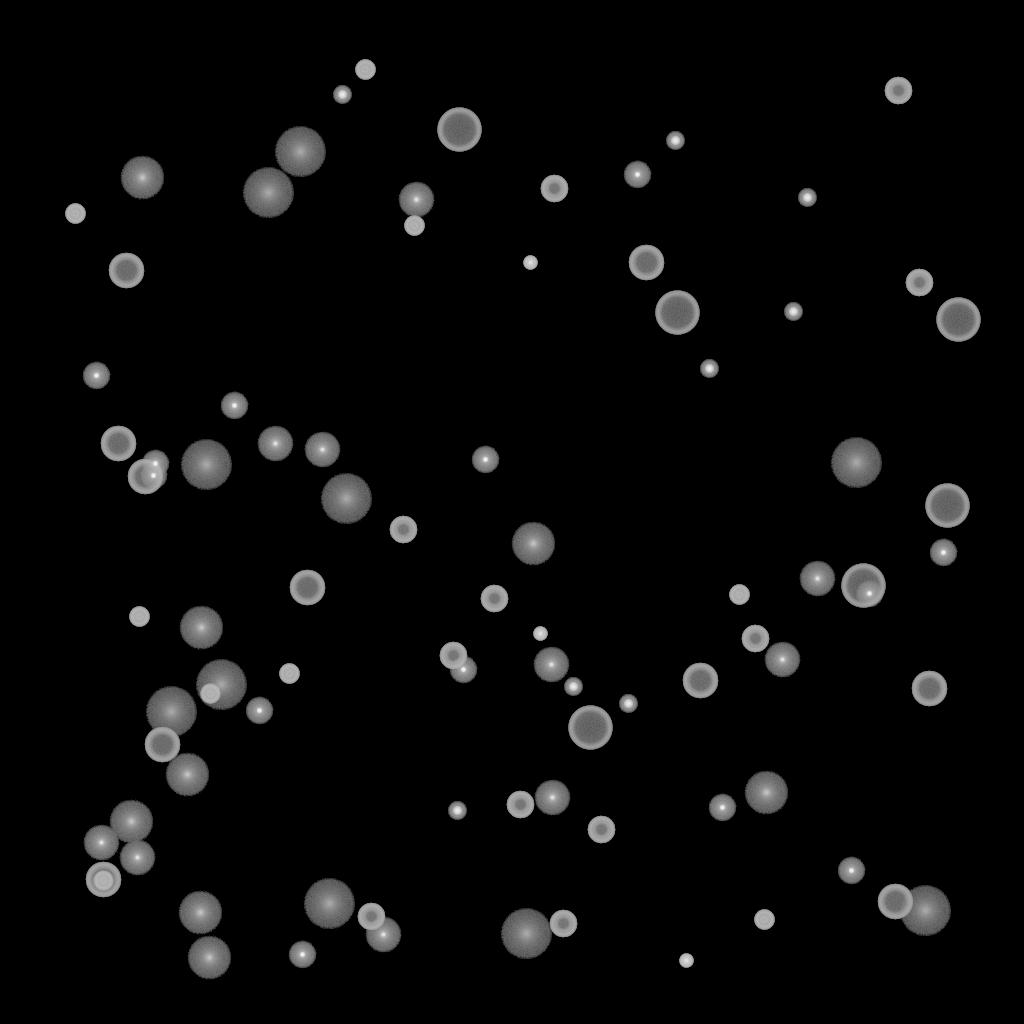depth:-10: (82, 362, 110, 390), (141, 450, 169, 478), (708, 794, 736, 822), (471, 446, 499, 474), (139, 462, 167, 490), (929, 539, 957, 567), (288, 941, 316, 969), (855, 580, 883, 608), (449, 656, 477, 684), (245, 697, 273, 725), (220, 392, 248, 420), (623, 161, 651, 189), (837, 857, 865, 885)
depth:-20: (666, 132, 684, 150), (564, 678, 582, 696), (448, 802, 466, 820), (798, 189, 816, 207), (619, 695, 637, 713), (700, 360, 718, 378), (333, 86, 351, 104), (784, 303, 802, 321)
depth:-30: (523, 256, 537, 270), (679, 954, 693, 968), (533, 627, 547, 641)
depth:-40: (65, 204, 85, 224), (279, 664, 299, 684), (404, 216, 424, 236), (93, 871, 113, 891), (729, 585, 749, 605), (355, 60, 375, 80), (129, 607, 149, 627), (754, 910, 774, 930), (200, 684, 220, 704)
depth:-50: (506, 791, 534, 819), (439, 642, 467, 670), (389, 516, 417, 544), (357, 903, 385, 931), (741, 625, 769, 653), (905, 269, 933, 297), (480, 585, 508, 613), (549, 910, 577, 938), (540, 175, 568, 203), (587, 816, 615, 844), (884, 77, 912, 105)
depth:-60: (682, 663, 718, 699), (85, 862, 121, 898), (144, 727, 180, 763), (289, 570, 325, 606), (911, 671, 947, 707), (628, 245, 664, 281), (100, 426, 136, 462), (108, 253, 144, 289), (127, 459, 163, 495), (877, 884, 913, 920)
depth:-70: (936, 298, 980, 342), (841, 564, 885, 608), (925, 484, 969, 528), (655, 291, 699, 335), (437, 108, 481, 152), (568, 706, 612, 750)
depth:0: (365, 917, 401, 953), (799, 561, 835, 597), (764, 642, 800, 678), (83, 825, 119, 861), (304, 432, 340, 468), (119, 840, 155, 876), (534, 780, 570, 816), (398, 182, 434, 218), (257, 426, 293, 462), (533, 647, 569, 683)
depth:10: (187, 936, 231, 980), (120, 156, 164, 200), (178, 891, 222, 935), (165, 753, 209, 797), (511, 522, 555, 566), (109, 800, 153, 844), (744, 771, 788, 815), (179, 606, 223, 650)
depth:20: (500, 909, 552, 959), (242, 168, 294, 218), (303, 879, 355, 929), (180, 440, 232, 490), (830, 438, 882, 488), (320, 474, 372, 524), (274, 127, 326, 177), (899, 886, 951, 936), (195, 660, 247, 710), (145, 687, 197, 737)
